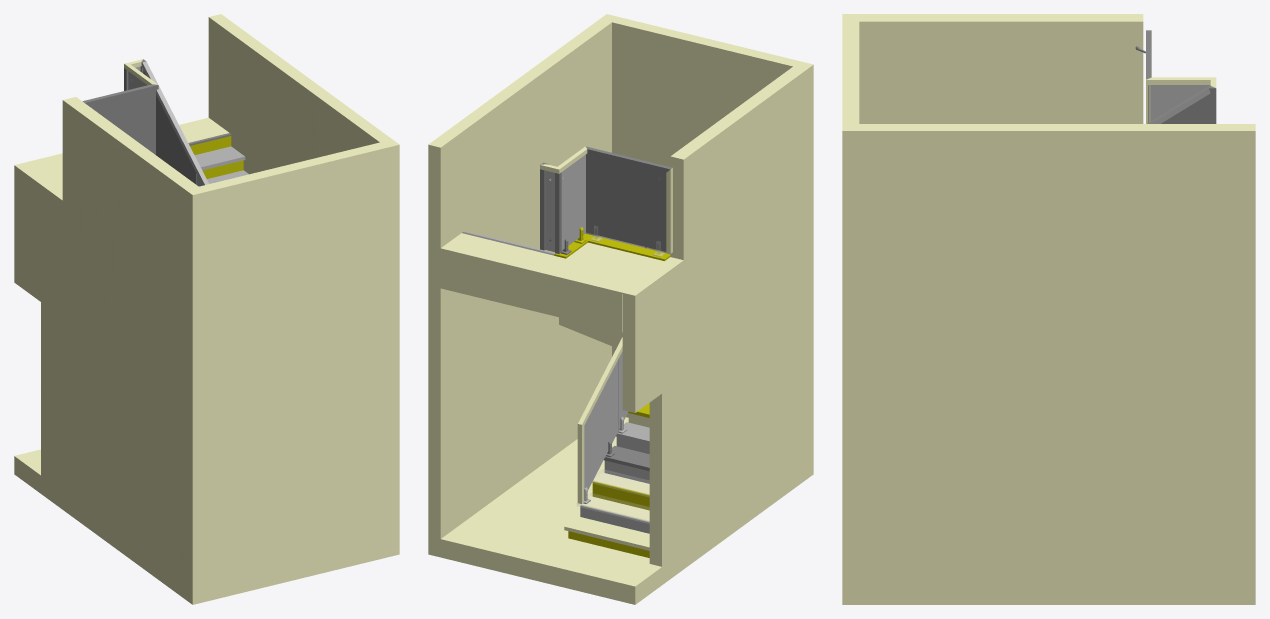
The model's file is ПроверочнаяСборка.obj.
3 renders of one model, left to right at view 1: azimuth 30°, elevation 25°; view 2: azimuth 150°, elevation 25°; view 3: azimuth 270°, elevation 25°, orthographic. The views are drawn at different scales.
Size of the model in its own units: 2.48 by 4.7 by 3.71.
